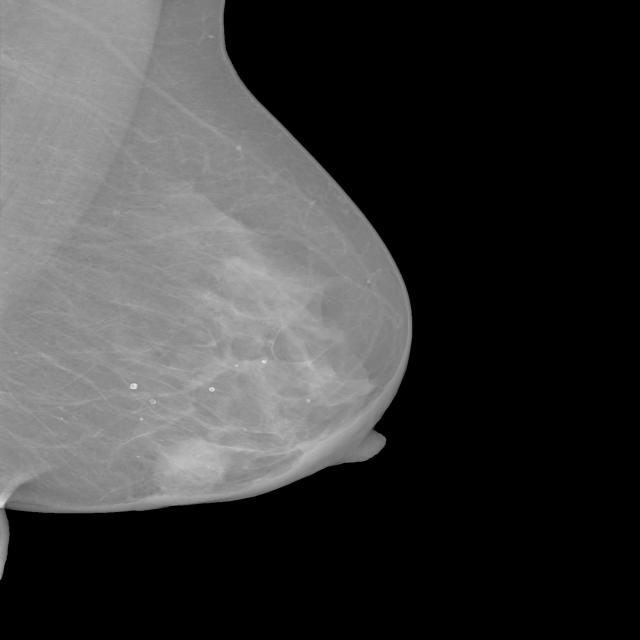Mass_1: (133, 424, 247, 511)
